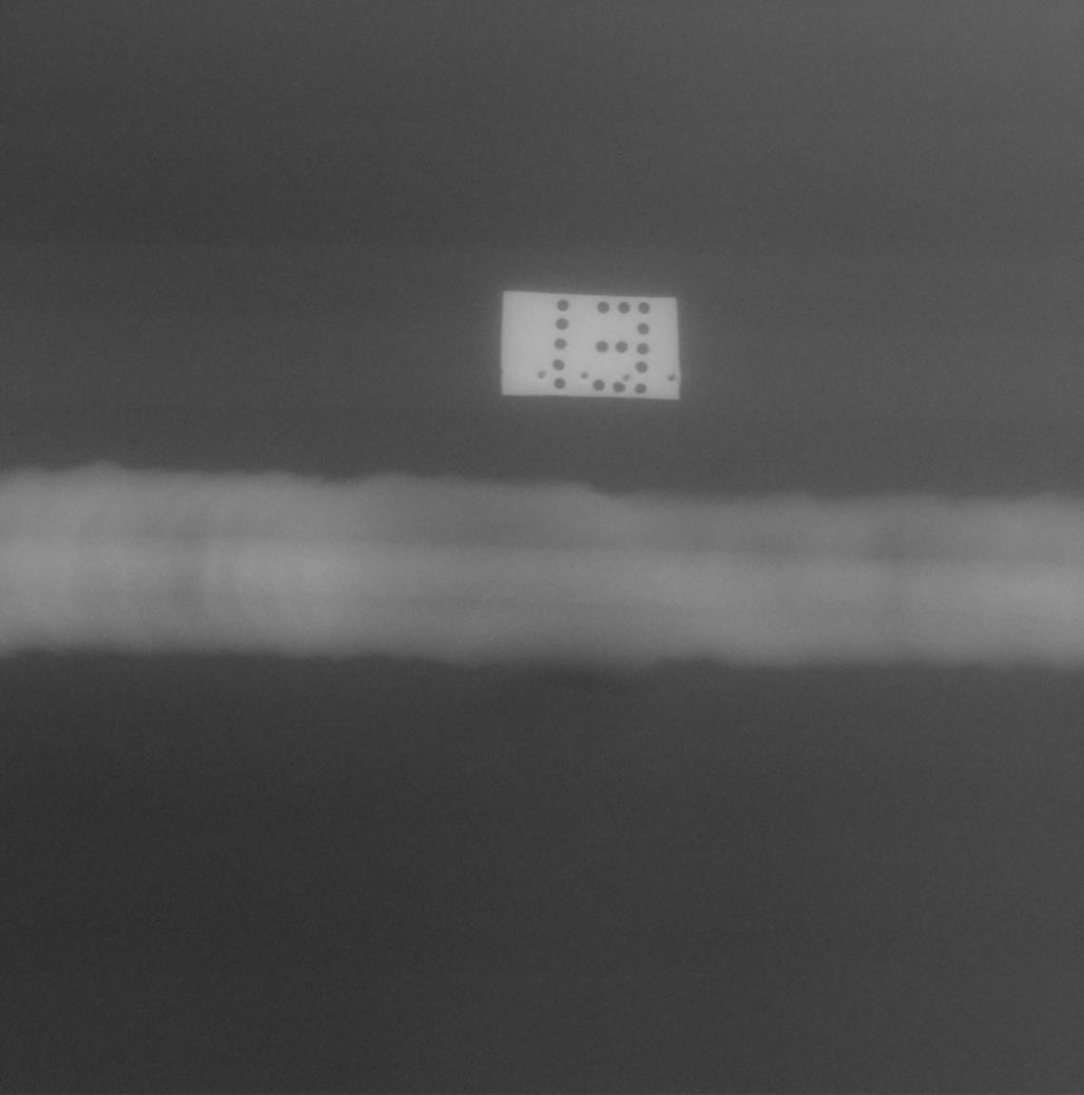Pore/Porosity: (592, 559, 596, 562)
